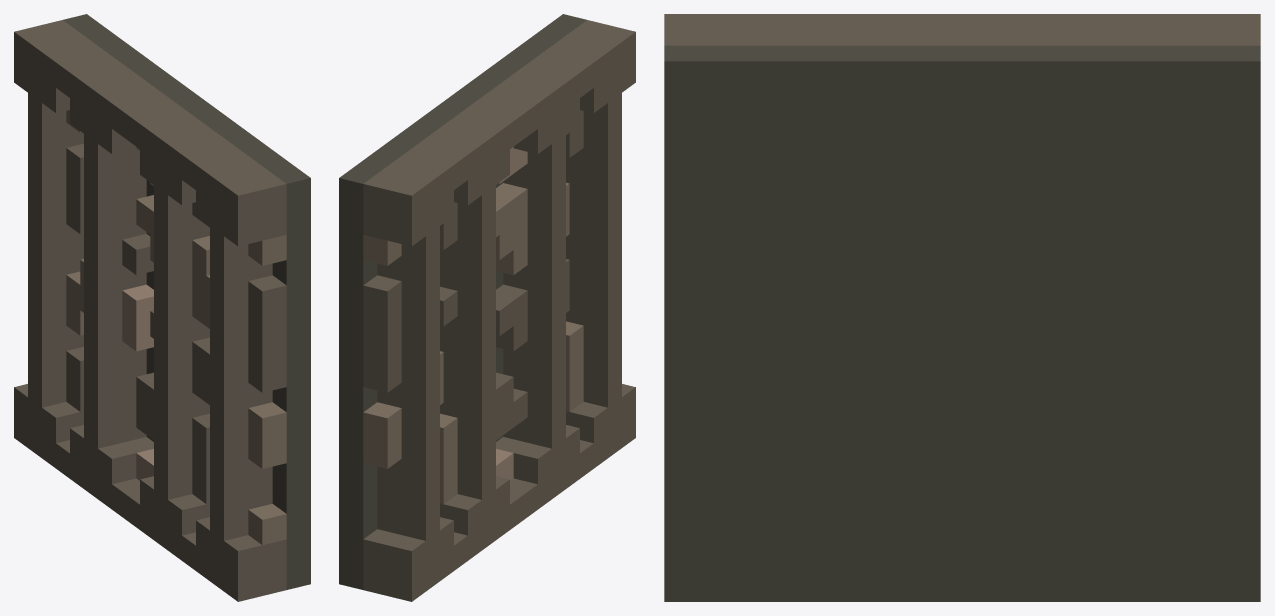
The model's file is tile_wall_stone.gltf.
The picture shows the model from 3 angles, left to right: view 1: azimuth 30°, elevation 25°; view 2: azimuth 150°, elevation 25°; view 3: azimuth 270°, elevation 25°; orthographic projection. The views are drawn at different scales.
Visible parts, largest first — view 1: tile_wall_stone; view 2: tile_wall_stone; view 3: tile_wall_stone.
Boxes of the visible parts, bbox=[...] form: tile_wall_stone: bbox=[14, 14, 310, 601]; tile_wall_stone: bbox=[339, 14, 635, 601]; tile_wall_stone: bbox=[664, 14, 1260, 601].
Bounding box in the file's own units: 0.3 × 1.6 × 1.6.
1 material, 1 textured.
